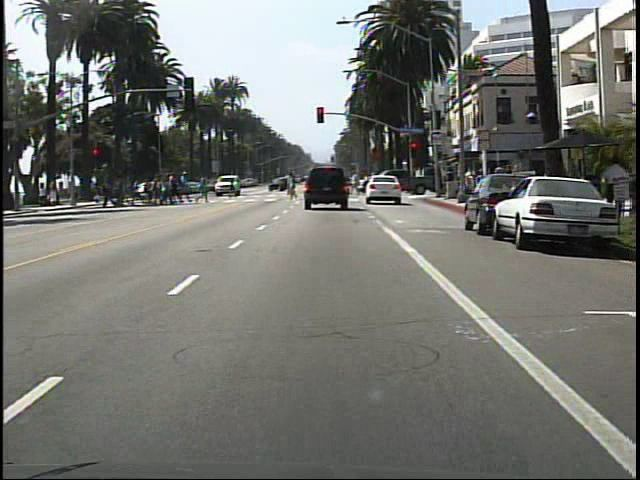person: (597, 153, 630, 224), (350, 167, 367, 204), (225, 174, 244, 204)
